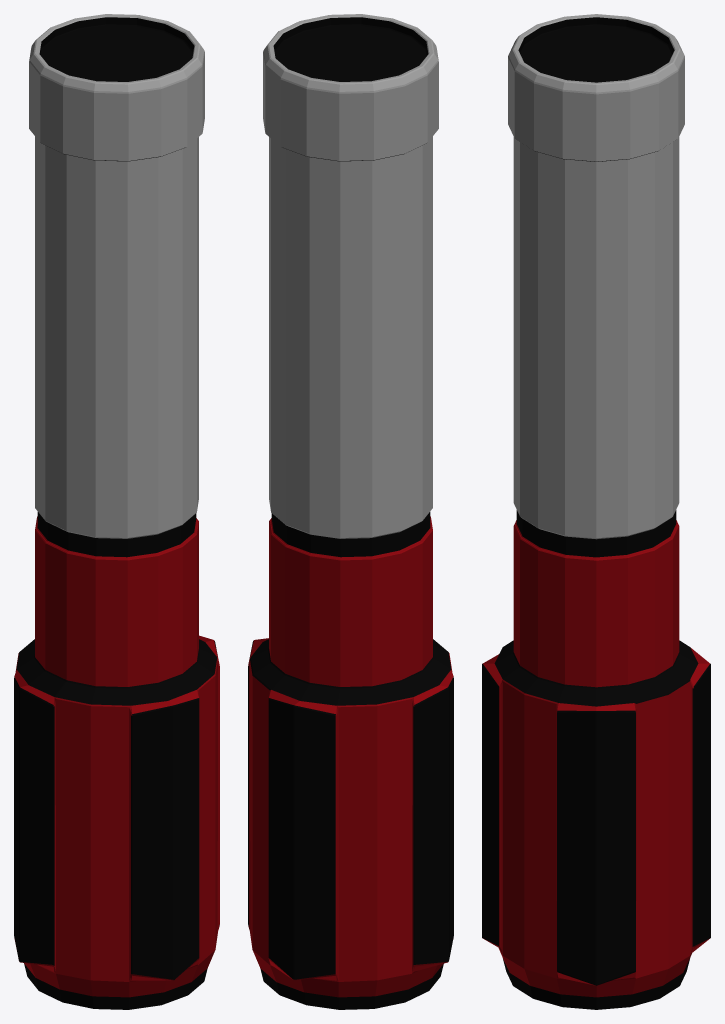
The model's file is signalFlare.fbx.
The picture shows the model from 3 angles, left to right: view 1: azimuth 30°, elevation 25°; view 2: azimuth 150°, elevation 25°; view 3: azimuth 270°, elevation 25°; orthographic projection.
Visible parts, largest first — view 1: Cylinder; view 2: Cylinder; view 3: Cylinder.
Boxes of the visible parts, box(x1,y1,x2,y2) form: Cylinder: box(14, 14, 219, 1009); Cylinder: box(248, 14, 453, 1009); Cylinder: box(482, 14, 710, 1009).
Size of the model in its own units: 221 by 1000 by 225.
